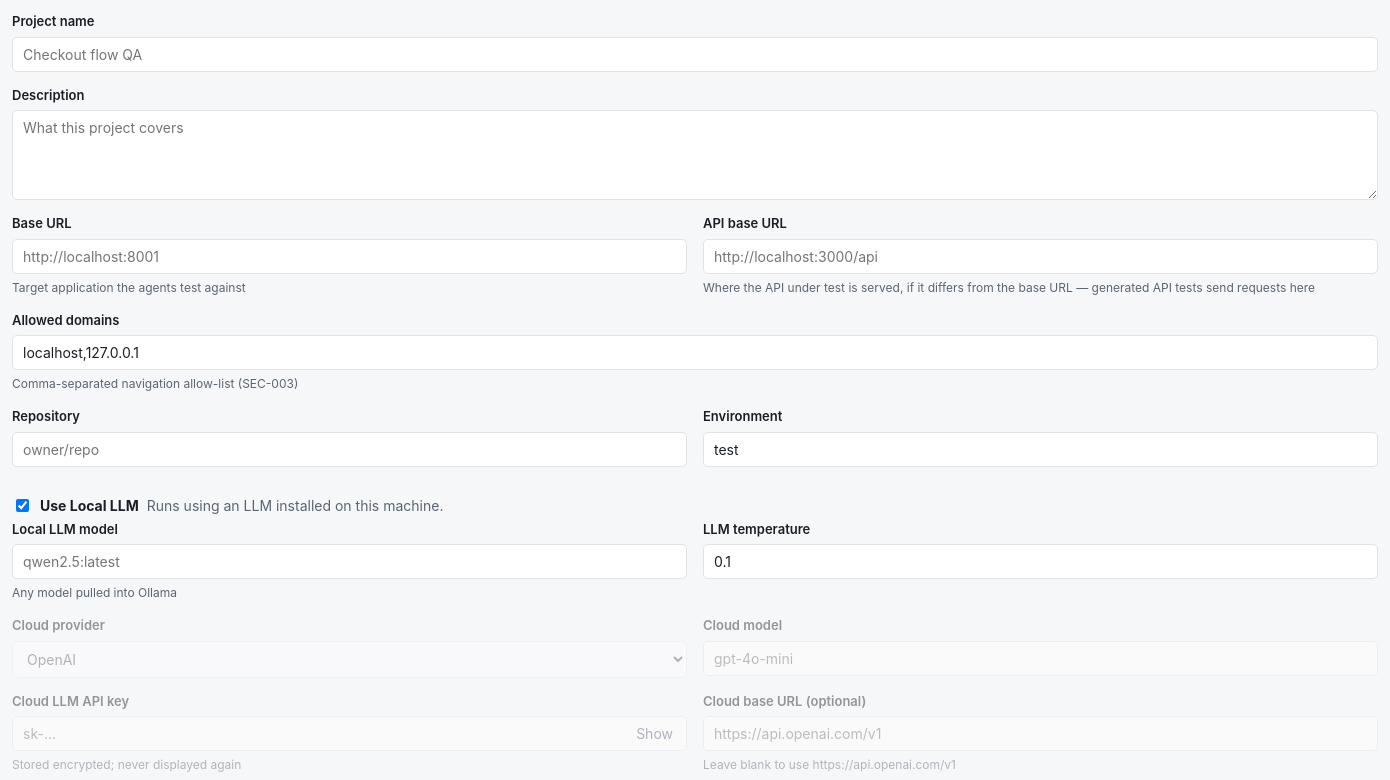
Test case: ProjectForm LLM configuration › switching the toggle off enables cloud fields and disables local ones
This screenshot has width=1390, height=780.
Click the switch labelled "Use Local LLM Runs using an LLM installed on this machine.": (22,505) [16,498,29,512]
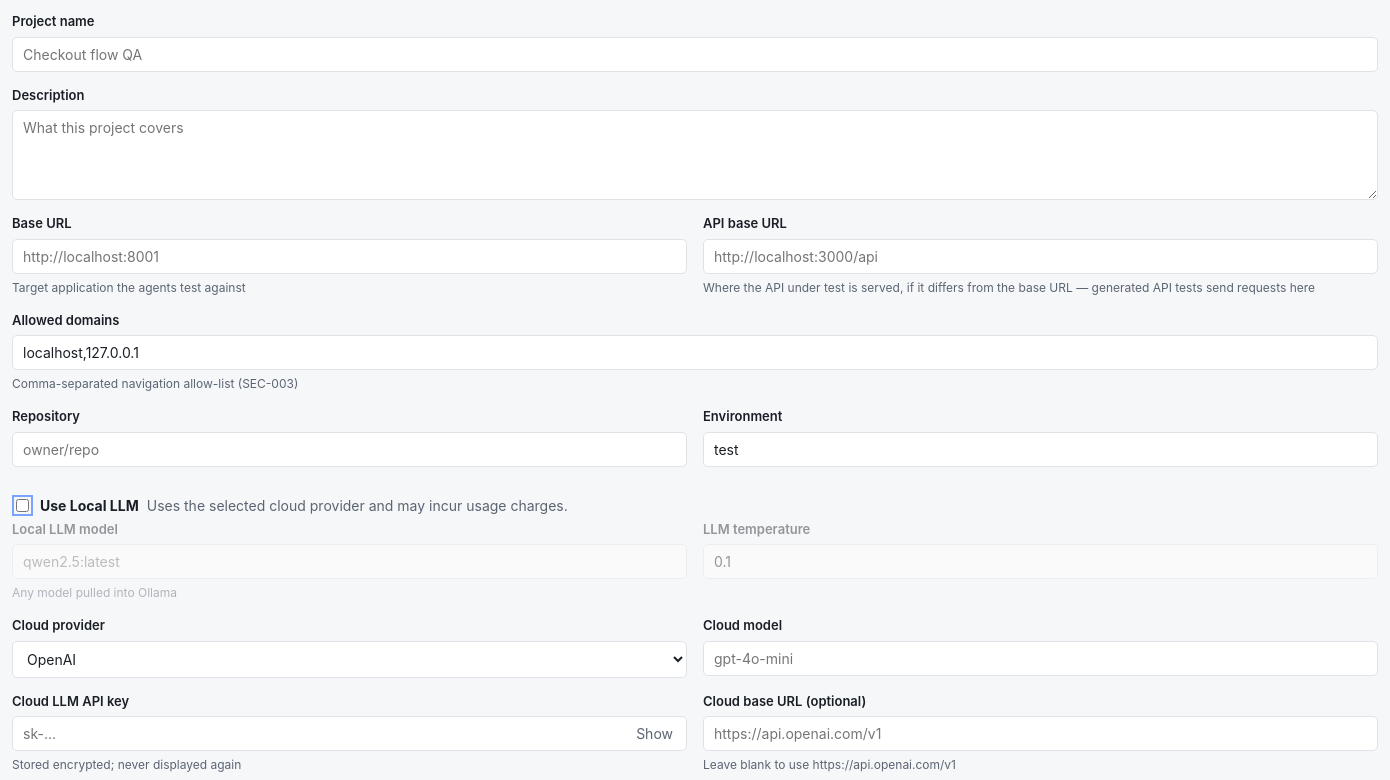
Check: the field labelled "Local LLM model" is disabled, box [12,544,687,579]
Check: the text "Uses the selected cloud provider and may incur usage charges." is shown, box [147,494,568,516]
